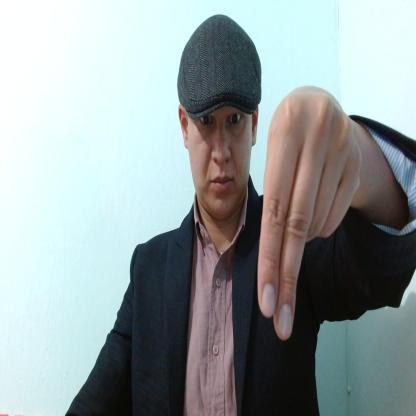N: (256, 88, 366, 342)
